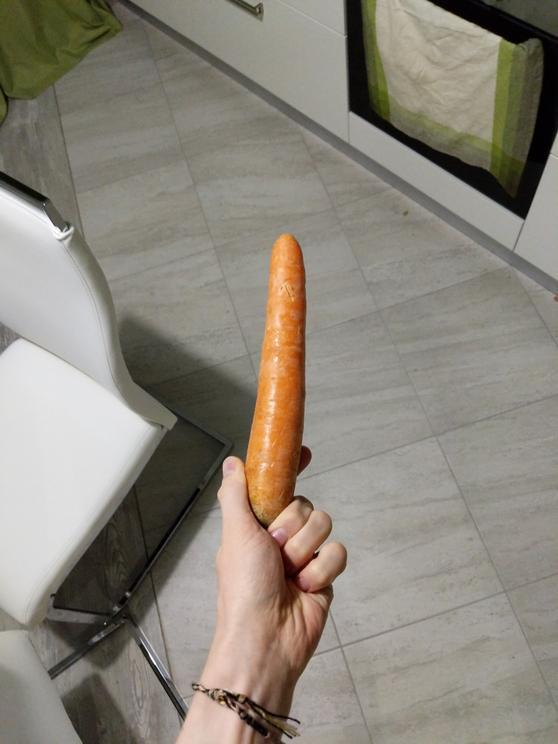carrot: (228, 211, 319, 525)
